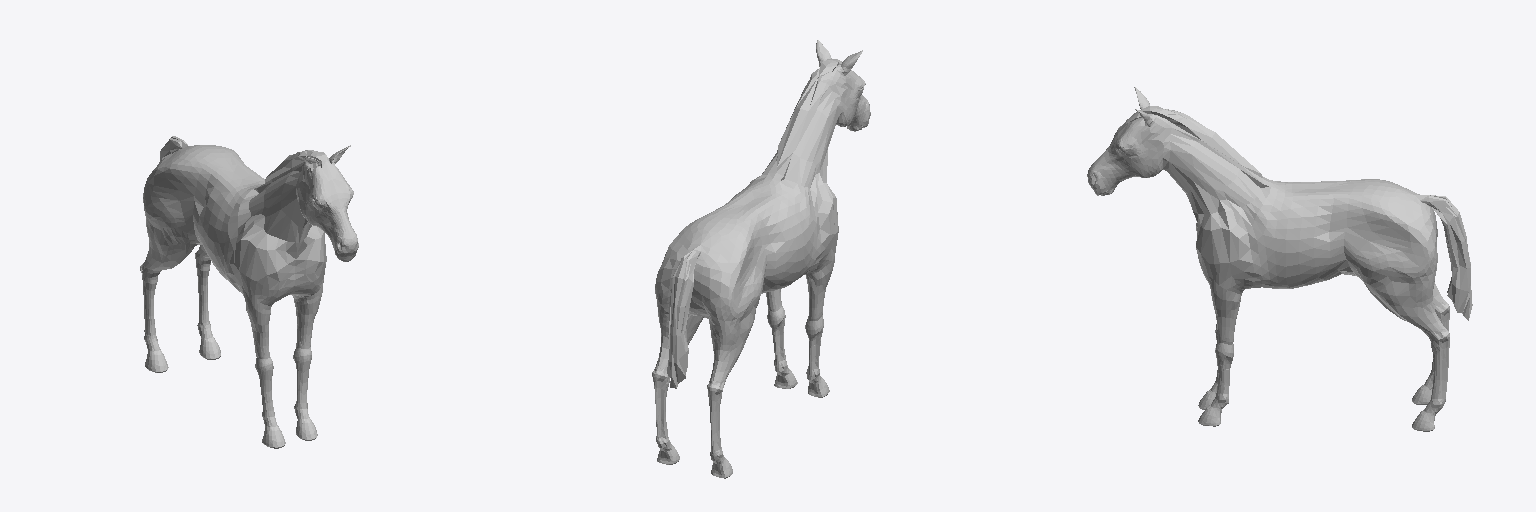
File: HORSE.OBJ
3 renders of one model, left to right at view 1: azimuth 30°, elevation 25°; view 2: azimuth 150°, elevation 25°; view 3: azimuth 270°, elevation 25°, orthographic.
Parts seen in each view (by area): view 1: hrs_body; view 2: hrs_body; view 3: hrs_body.
Part boxes in pixels (x1,y1,x2,y2): hrs_body: (140,136,358,448); hrs_body: (652,40,870,478); hrs_body: (1087,87,1472,431).
Bounding box in the file's own units: 0.5887 × 2.13 × 2.34.